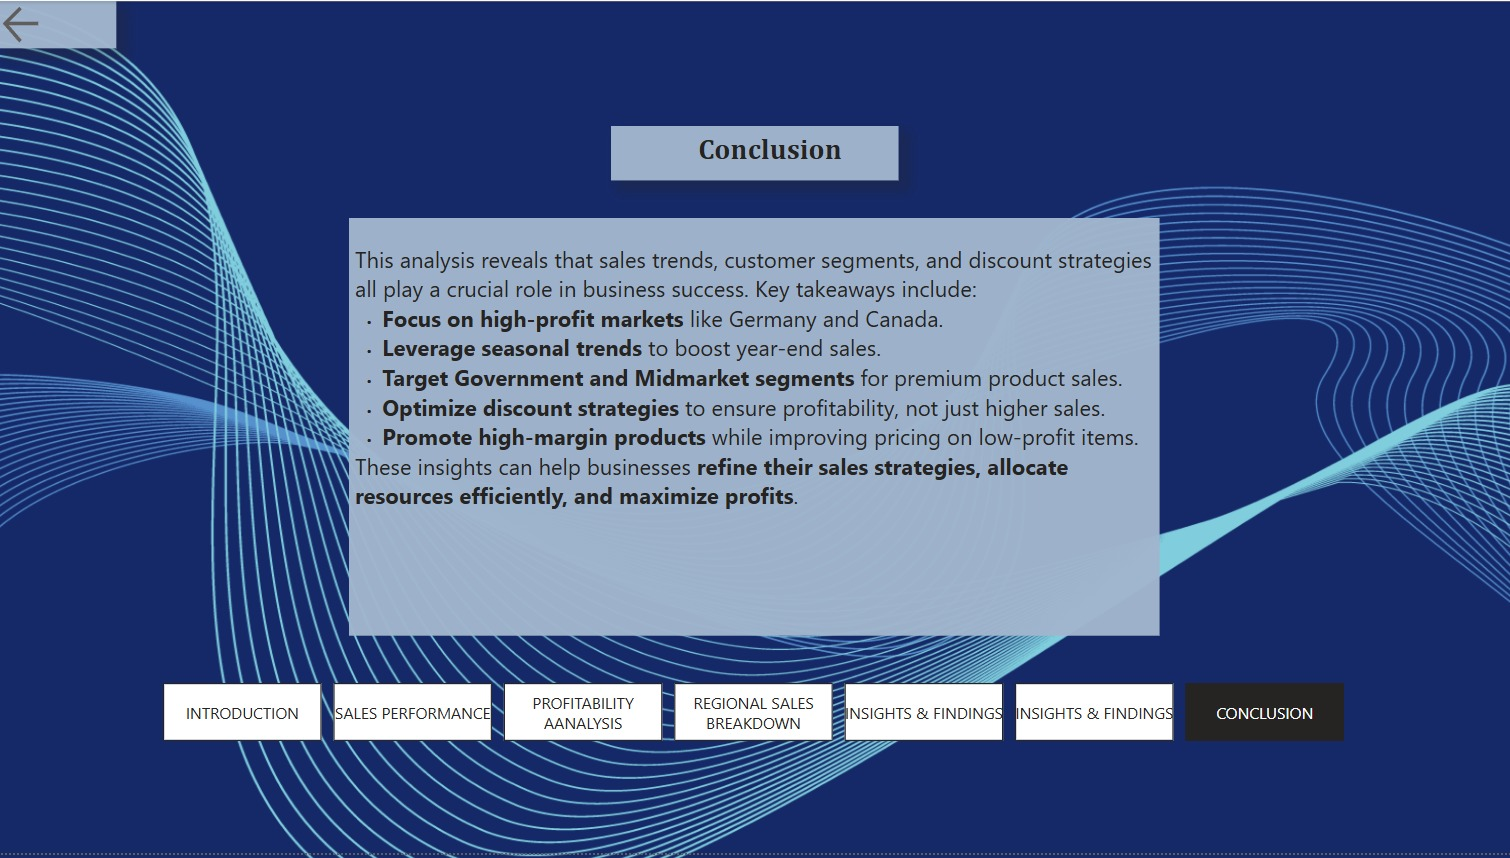

The page's visual inventory and layout, read from the dashboard file:
{"tool":"powerbi","page":{"name":"CONCLUSION","canvas":[1280,720],"ordinal":6},"visuals":[{"type":"textbox","box":[296.6,183.4,685.4,353.2],"z":0},{"type":"textbox","box":[518,105.6,242.5,46.5],"z":1000},{"type":"pageNavigator","box":[139.4,576.3,999.7,49.9],"z":2000},{"type":"actionButton","box":[0,0,100,40],"z":3000}]}

Visuals, with their boxes in screenshot pixels (x1, y1, x2, y2), scaled from the page's 1280x720 canvas onto the 1510x858 screenshot:
textbox: (350,219,1158,639)
textbox: (611,126,897,181)
pageNavigator: (164,687,1344,746)
actionButton: (0,0,118,48)
